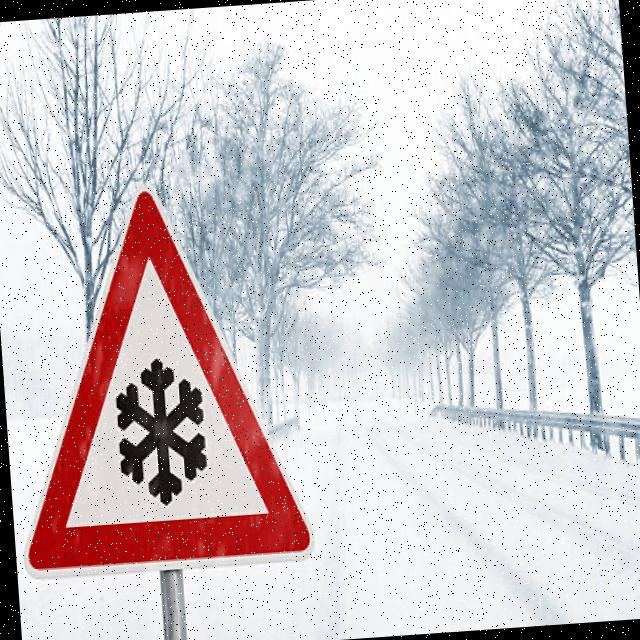snow_warning: (0, 167, 325, 594)
